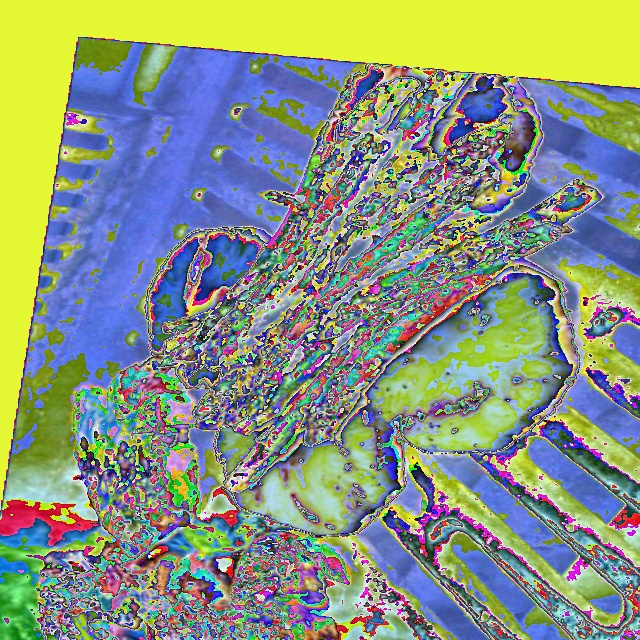background: (32, 64, 604, 639)
